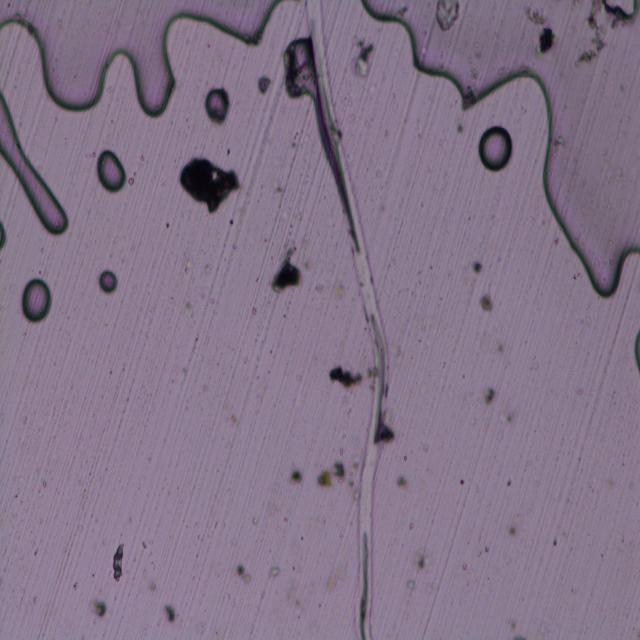Air bubble: (362, 0, 640, 298), (0, 0, 280, 121), (279, 33, 317, 104), (476, 121, 514, 173), (20, 276, 54, 324), (94, 146, 128, 193), (202, 86, 231, 124), (631, 331, 640, 375), (0, 221, 10, 255)
Background material: (179, 151, 246, 216), (576, 1, 612, 70), (522, 2, 560, 58), (268, 242, 306, 295), (351, 36, 381, 79), (315, 460, 348, 489), (326, 363, 362, 388), (434, 3, 462, 35), (410, 546, 436, 576), (109, 541, 127, 582), (377, 421, 397, 446), (89, 596, 107, 620), (164, 598, 178, 628), (483, 387, 501, 409), (234, 562, 252, 582), (480, 293, 496, 312), (396, 471, 410, 492), (258, 74, 272, 92), (289, 469, 305, 484), (474, 258, 484, 278)
Diatom: (0, 94, 68, 234), (98, 270, 120, 294)
Microfibre: (306, 0, 389, 637)
